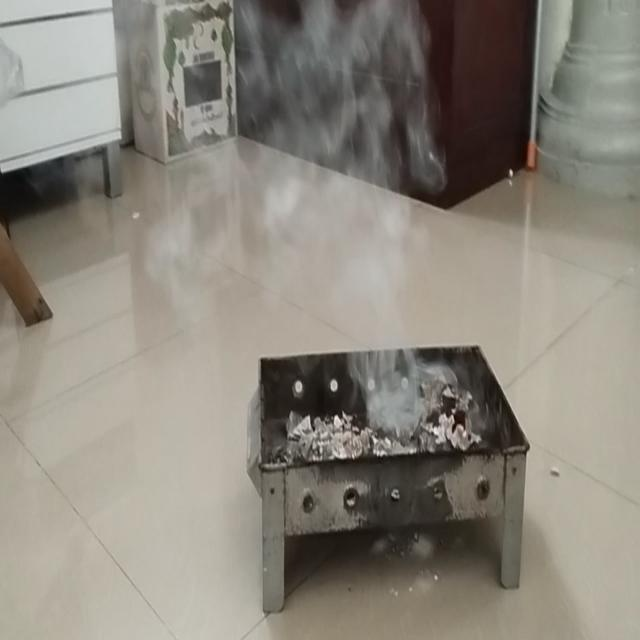smoke: (239, 32, 427, 392)
